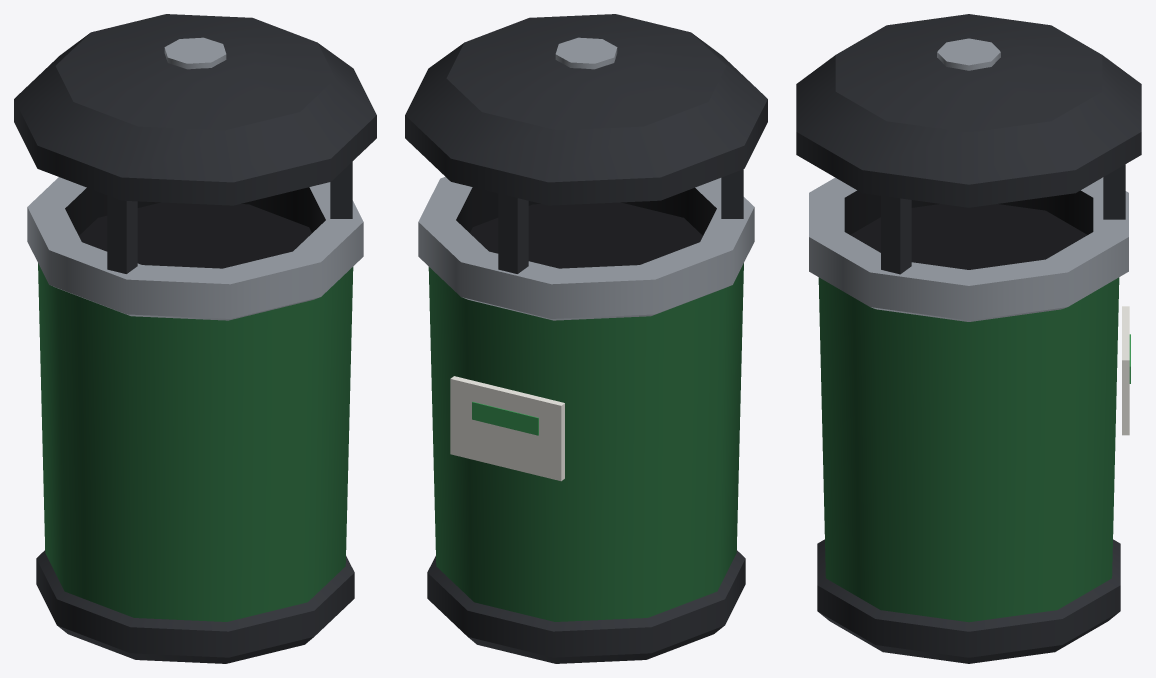
The model's file is prop_bin.glb.
3 renders of one model, left to right at view 1: azimuth 30°, elevation 25°; view 2: azimuth 150°, elevation 25°; view 3: azimuth 270°, elevation 25°, orthographic.
Parts seen in each view (by area): view 1: prop_bin__mesh; view 2: prop_bin__mesh; view 3: prop_bin__mesh.
Part boxes in pixels (bbox=[...]): prop_bin__mesh: bbox=[14, 14, 376, 663]; prop_bin__mesh: bbox=[405, 14, 767, 663]; prop_bin__mesh: bbox=[796, 14, 1141, 663].
Size of the model in its own units: 0.57 by 0.952 by 0.5421.
1 material, 1 textured.
